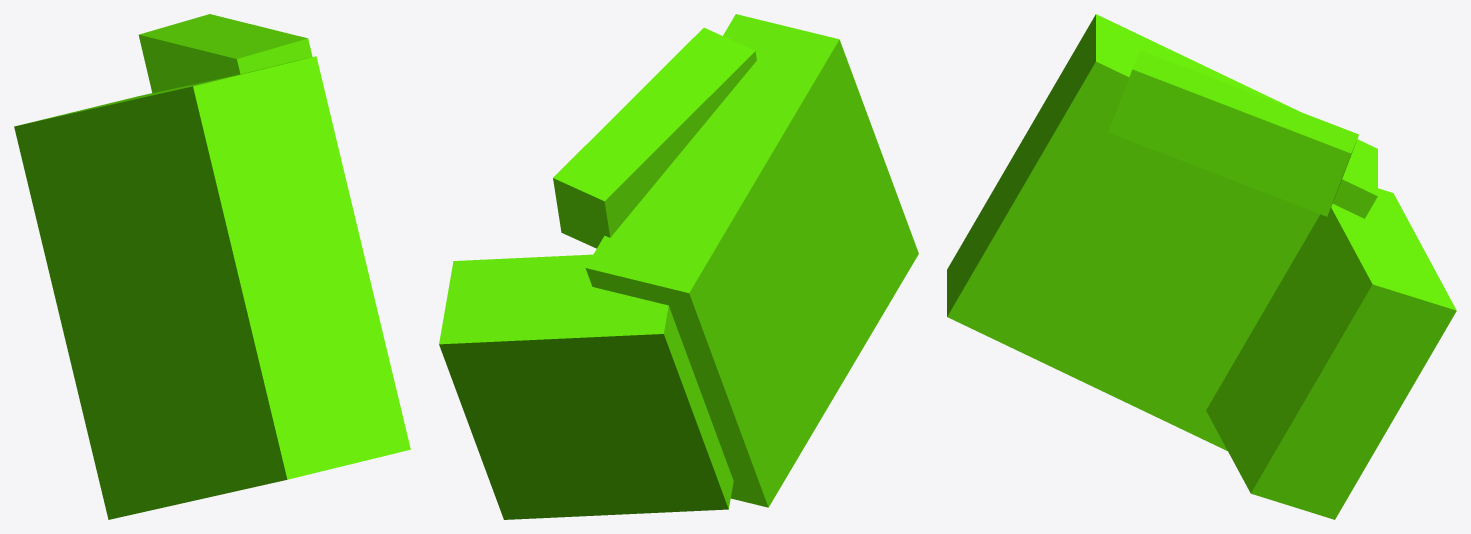
The model's file is hand_l_closed.glb.
3 renders of one model, left to right at view 1: azimuth 30°, elevation 25°; view 2: azimuth 150°, elevation 25°; view 3: azimuth 270°, elevation 25°, orthographic. The views are drawn at different scales.
Parts seen in each view (by area): view 1: Cube, Cube.001; view 2: Cube, Cube.002, Cube.001; view 3: Cube, Cube.002, Cube.001.
Boxes of the visible parts, <box> form: Cube: <box>14,56,410,519</box>; Cube.001: <box>138,14,312,92</box>; Cube: <box>585,14,918,507</box>; Cube.002: <box>439,254,733,519</box>; Cube.001: <box>553,27,756,248</box>; Cube: <box>947,14,1377,450</box>; Cube.002: <box>1206,188,1456,519</box>; Cube.001: <box>1108,50,1358,216</box>.
Size of the model in its own units: 1.62 by 2.84 by 3.2.
